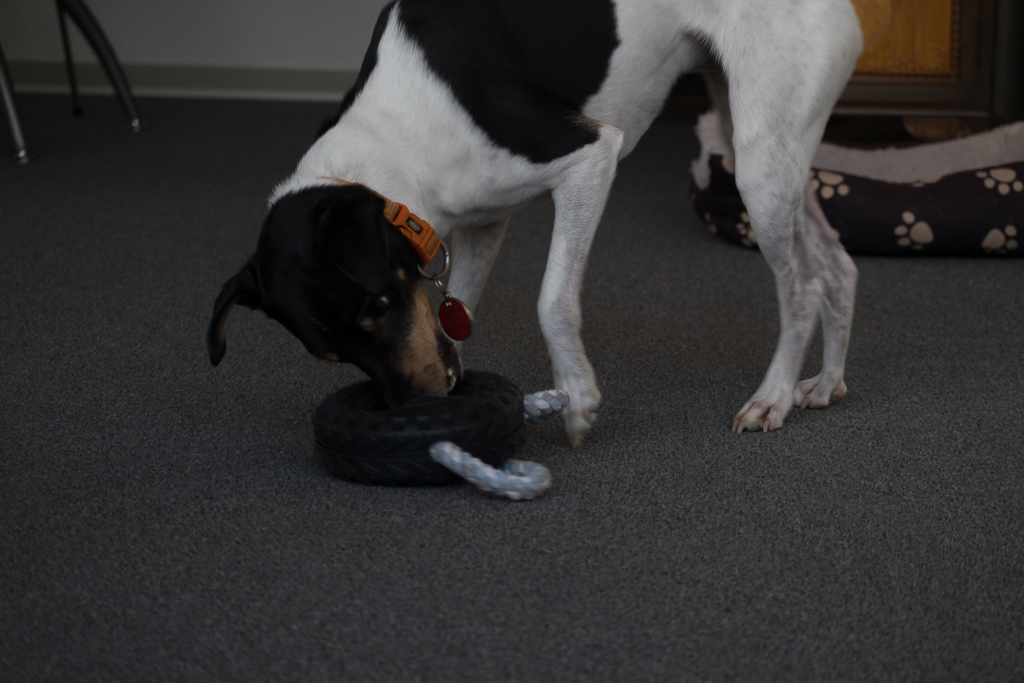Dog: (198, 0, 879, 460)
